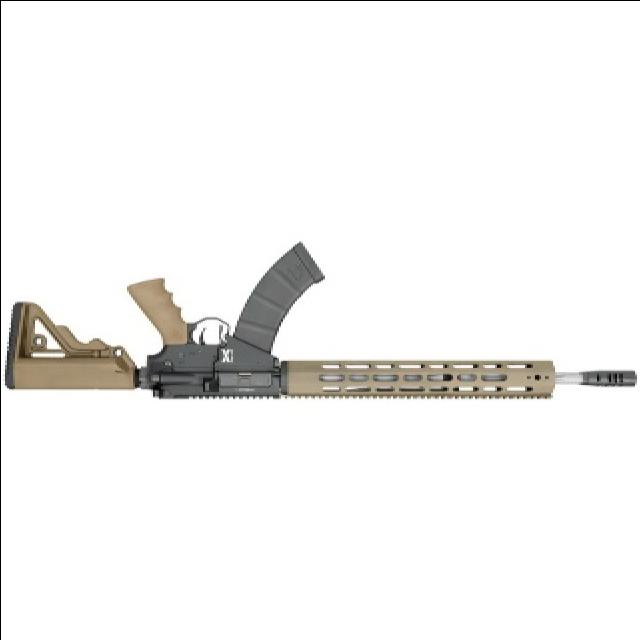rifle: (1, 243, 639, 407)
